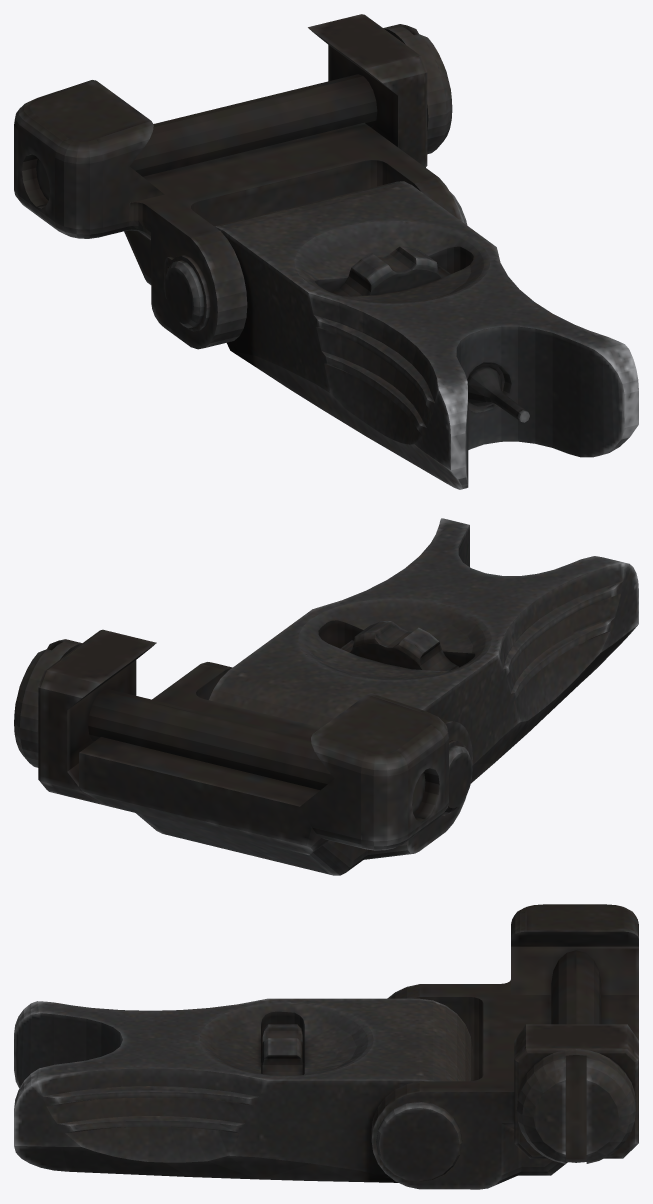
3 renders of one model, top to bottom at view 1: azimuth 30°, elevation 25°; view 2: azimuth 150°, elevation 25°; view 3: azimuth 270°, elevation 25°, orthographic. The views are drawn at different scales.
Visible parts, largest first — view 1: TW_5dfa3d950dee1b22f862eae0_folded_PZ_Import; view 2: TW_5dfa3d950dee1b22f862eae0_folded_PZ_Import; view 3: TW_5dfa3d950dee1b22f862eae0_folded_PZ_Import.
Boxes of the visible parts, x1=… form: TW_5dfa3d950dee1b22f862eae0_folded_PZ_Import: x1=14, y1=14, x2=638, y2=489; TW_5dfa3d950dee1b22f862eae0_folded_PZ_Import: x1=14, y1=518, x2=638, y2=875; TW_5dfa3d950dee1b22f862eae0_folded_PZ_Import: x1=14, y1=904, x2=638, y2=1189.
Size of the model in its own units: 0.018 by 0.0279 by 0.00847.
1 material, 1 textured.
